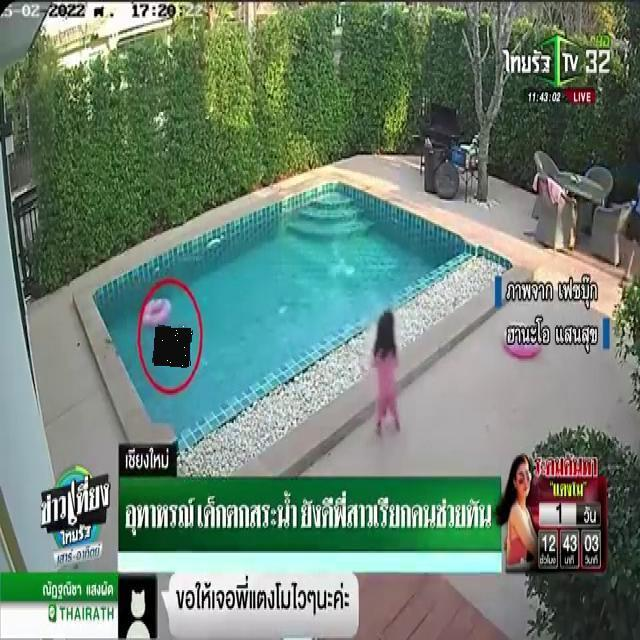Out of Water: (154, 326, 192, 367)
